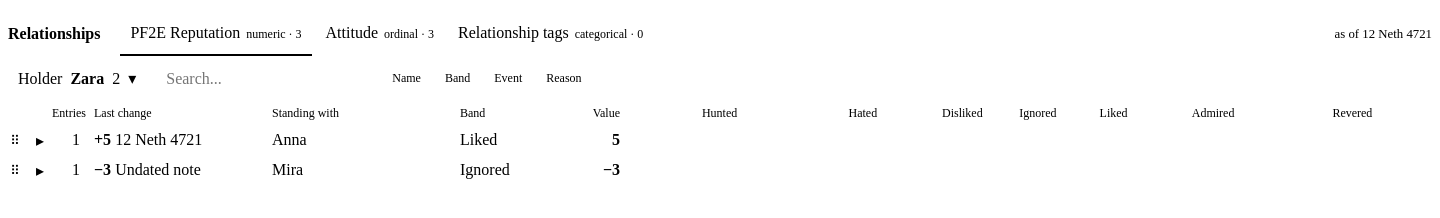
RelationshipsView › Attitude tab (placeholder layout) › renders the placeholder body rather than the numeric tab
Click the tab "Attitude ordinal · 3" at (380, 34), box [316,12,444,56]
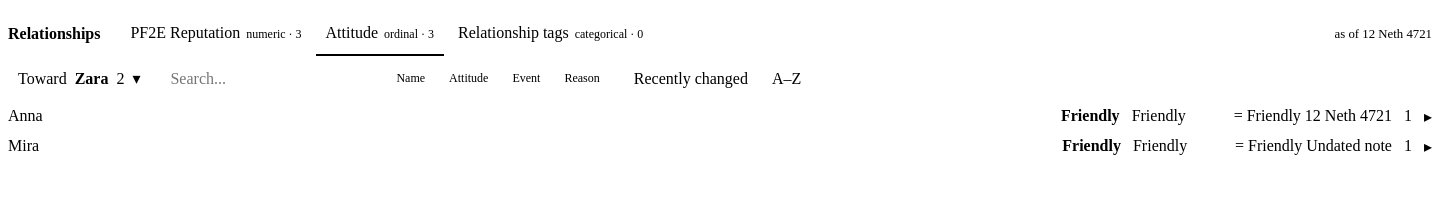
Expected: the element with class "rel-num-tab" is gone
Expected: the element with class "rel-placeholder-body" is shown, [0,101,1439,177]
